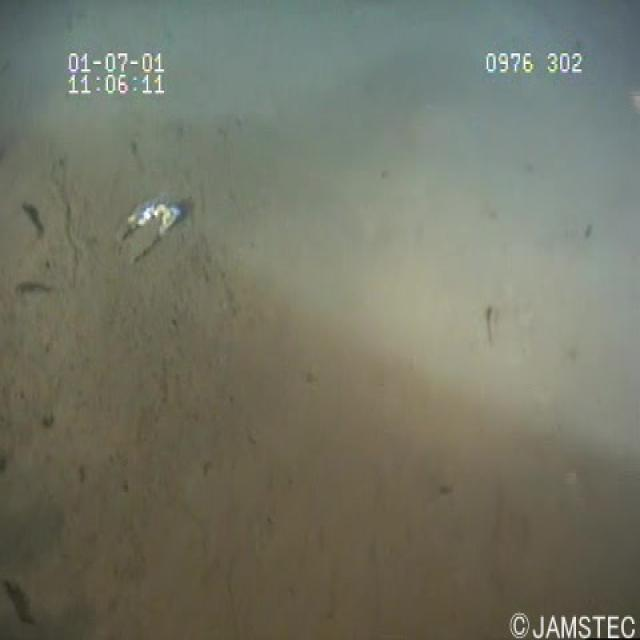plastic: (101, 181, 192, 283)
